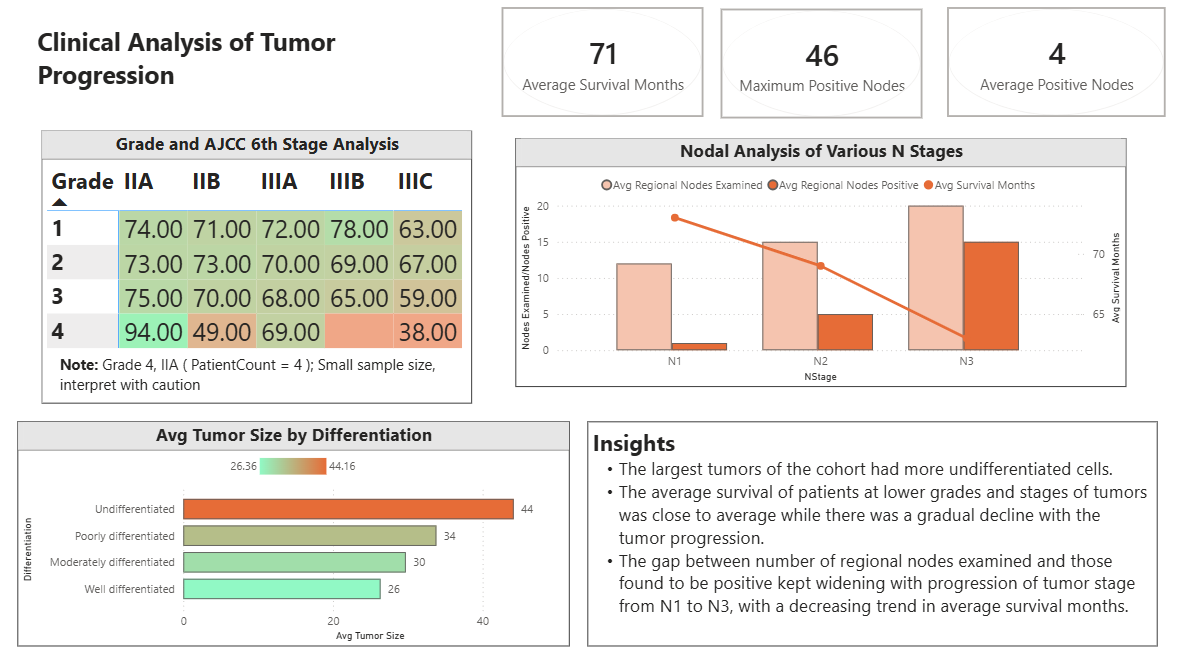

The dashboard page shown, as its layout file describes it:
{"tool":"powerbi","page":{"name":"Page 3","canvas":[1280,720],"ordinal":2},"visuals":[{"type":"pivotTable","title":"Grade and AJCC 6th Stage Analysis","fields":{"Values":["Avg(stagegradeanalysis.AvgSurvivalMonths)"],"Rows":["stagegradeanalysis.Grade"],"Columns":["stagegradeanalysis.AJCC6thStage"]},"box":[50.2,150.6,464.7,294.7],"z":0},{"type":"barChart","fields":{"Y":["Avg(TumorSizeDifferentiation.AvgTumorSize)"],"Category":["TumorSizeDifferentiation.Differentiation"]},"box":[24.3,464.7,595.9,242.9],"z":1000},{"type":"lineClusteredColumnComboChart","title":"Nodal Analysis of Various N Stages","fields":{"Category":["NodalAnalysis.NStage"],"Y":["Avg(NodalAnalysis.RegionalNodesExamined)","Avg(NodalAnalysis.RegionalNodesPositive)"],"Y2":["Avg(NodalAnalysis.AvgSurvivalMonths)"]},"box":[561.9,158.7,659,268.8],"z":2000},{"type":"textbox","box":[639.6,464.7,615.3,242.9],"z":3000},{"type":"textbox","box":[40.5,30.8,359.5,95.5],"z":4000},{"type":"cardVisual","fields":{"Data":["fact_BreastCancer.Maximum Positive Nodes"]},"box":[765.9,1.6,252.6,153.8],"z":5000},{"type":"cardVisual","fields":{"Data":["fact_BreastCancer.Average Positive Nodes"]},"box":[1010.4,0,270.4,153.8],"z":6000},{"type":"cardVisual","fields":{"Data":["fact_BreastCancer.Average Survival Months"]},"box":[529.5,0,252.6,153.8],"z":7000},{"type":"textbox","box":[64.8,387,442,53.4],"z":8000}]}

Visuals, with their boxes in screenshot pixels (x1, y1, x2, y2), scaled from the page's 1280x720 canvas onto the 1180x658 screenshot:
"Grade and AJCC 6th Stage Analysis" pivotTable: <box>46,138,475,407</box>
barChart - Avg(TumorSizeDifferentiation.AvgTumorSize) x TumorSizeDifferentiation.Differentiation: <box>22,425,572,647</box>
"Nodal Analysis of Various N Stages" lineClusteredColumnComboChart: <box>518,145,1126,391</box>
textbox: <box>590,425,1157,647</box>
textbox: <box>37,28,369,115</box>
cardVisual - fact_BreastCancer.Maximum Positive Nodes: <box>706,1,939,142</box>
cardVisual - fact_BreastCancer.Average Positive Nodes: <box>931,0,1179,141</box>
cardVisual - fact_BreastCancer.Average Survival Months: <box>488,0,721,141</box>
textbox: <box>60,354,467,402</box>
